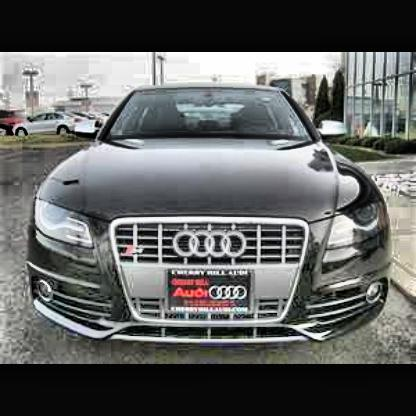Audi S4 Sedan 2012: (28, 87, 399, 353)
